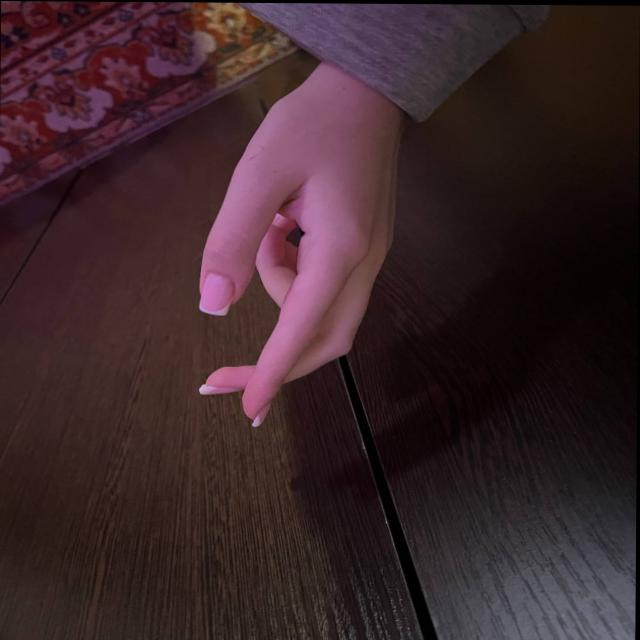b: (186, 141, 413, 437)
